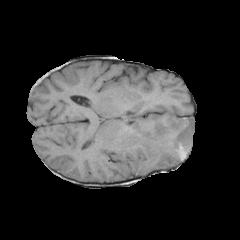glioma: (137, 112, 195, 168)
